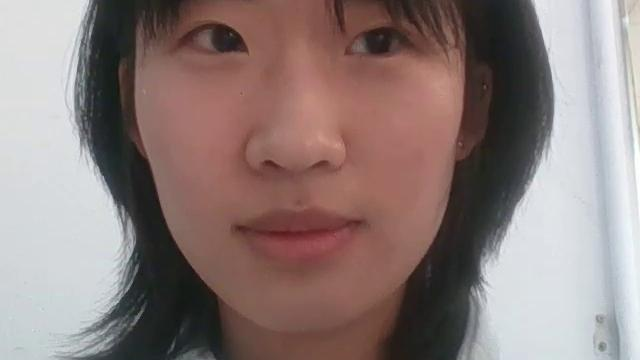eye: (213, 25, 242, 53), (365, 29, 394, 53)
iris: (346, 28, 411, 58), (183, 24, 250, 53)
